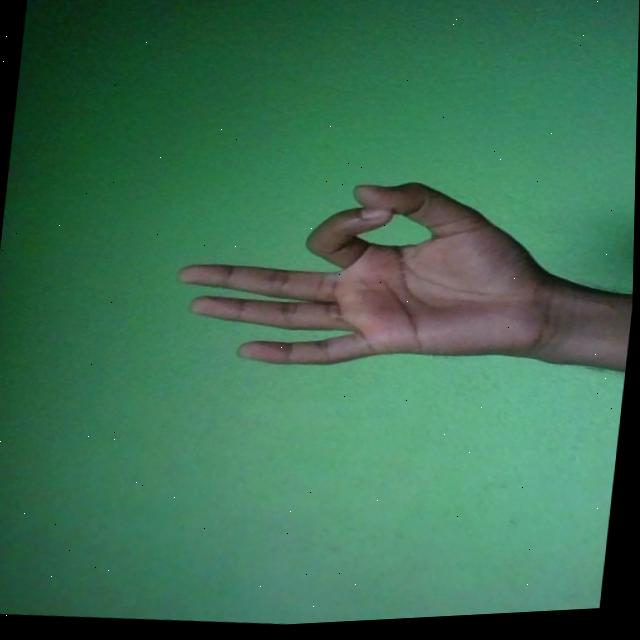Ok: (168, 160, 577, 394)
